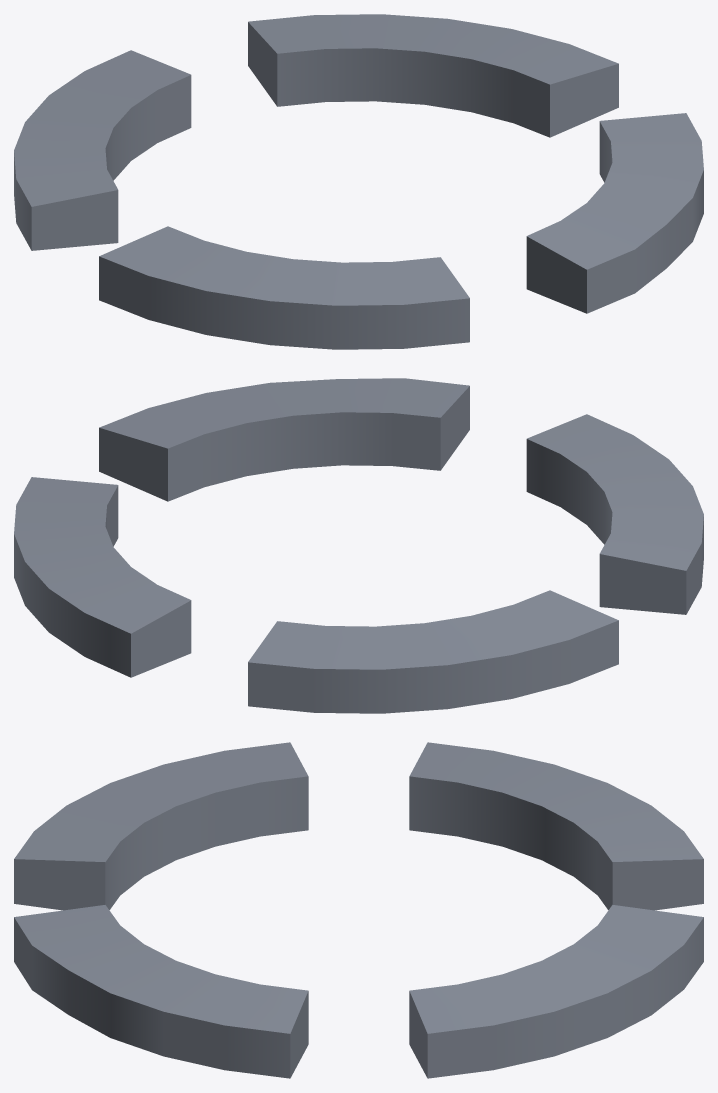
File: Target.fbx
The picture shows the model from 3 angles, top to bottom: view 1: azimuth 30°, elevation 25°; view 2: azimuth 150°, elevation 25°; view 3: azimuth 270°, elevation 25°; orthographic projection.
Visible parts, largest first — view 1: target_pointilles; view 2: target_pointilles; view 3: target_pointilles.
Boxes of the visible parts, x1,y1,x2,y2 form: target_pointilles: (14,14,703,349); target_pointilles: (14,378,703,713); target_pointilles: (14,742,703,1078).
Bounding box in the file's own units: 138 × 11.96 × 138.
